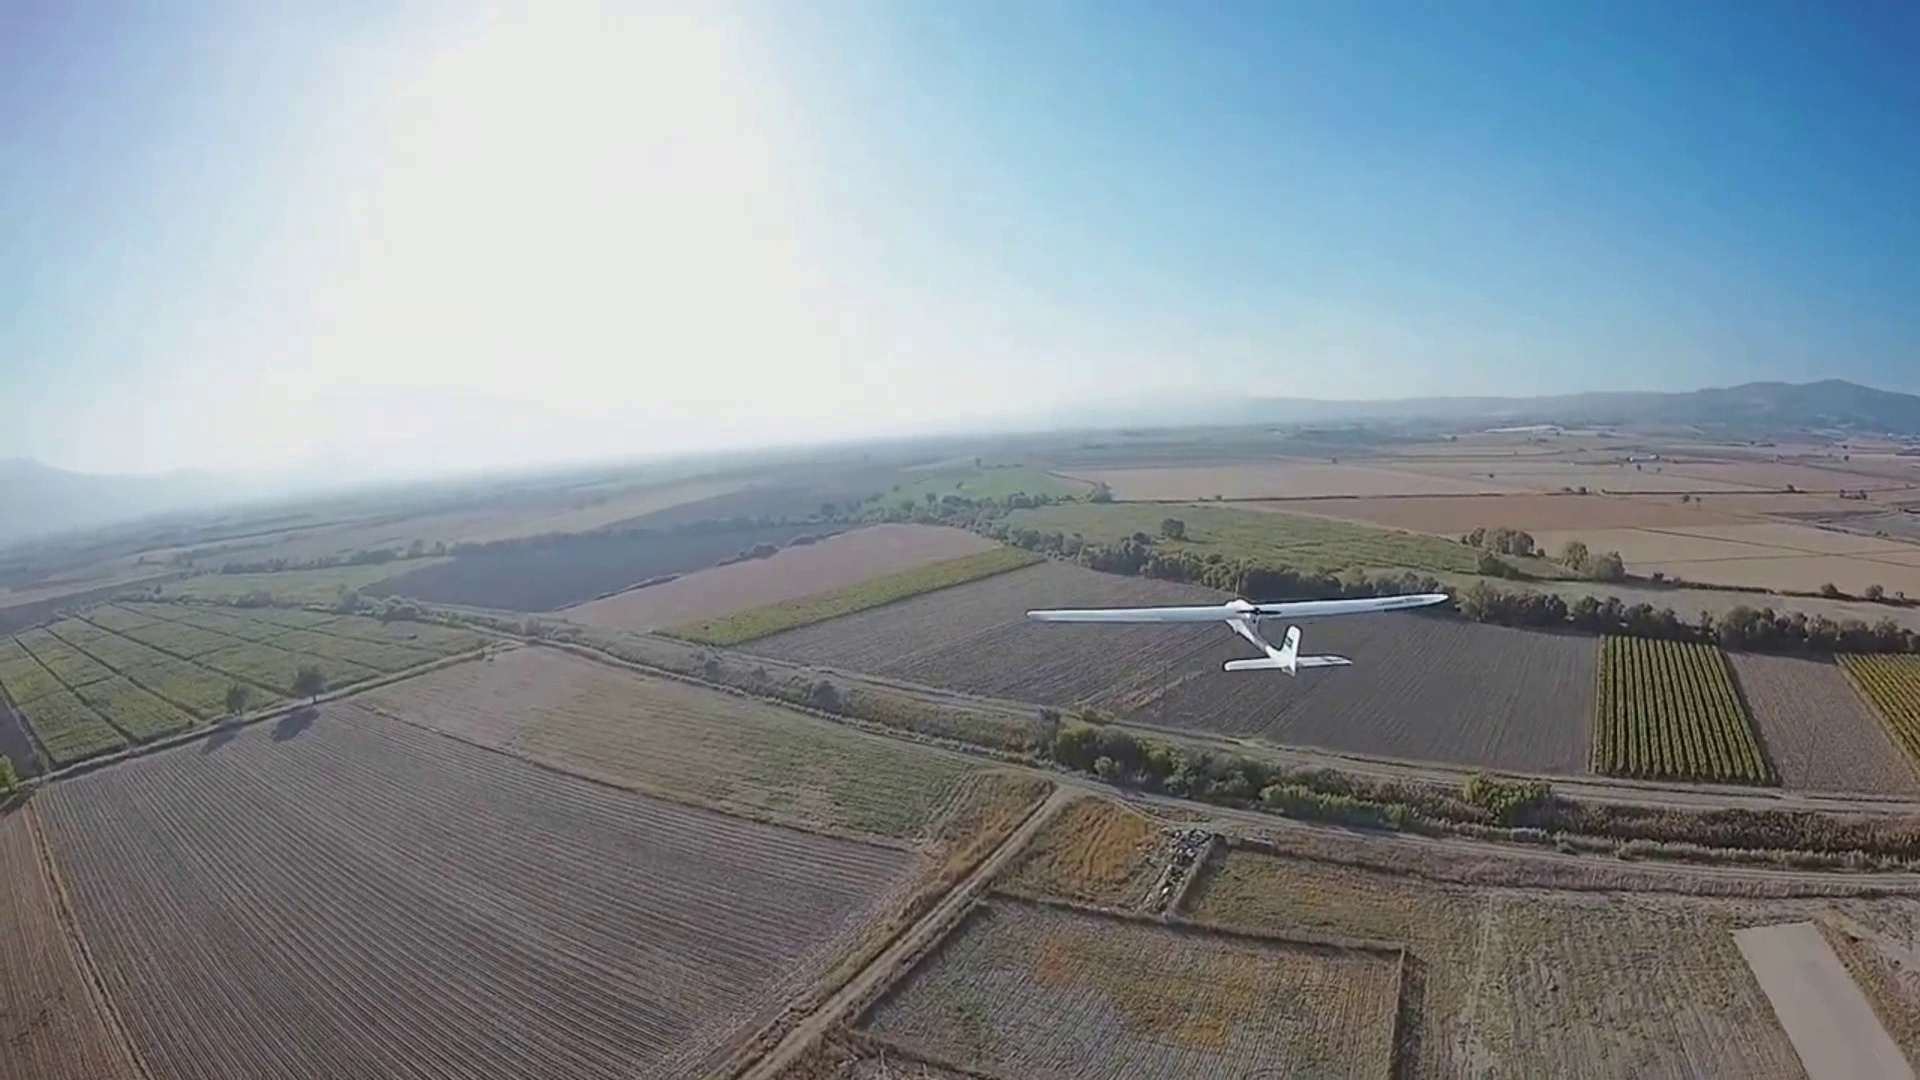airplane: (1026, 566, 1455, 678)
